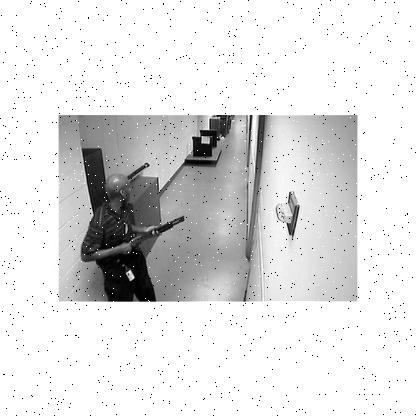gun: (114, 212, 186, 256)
